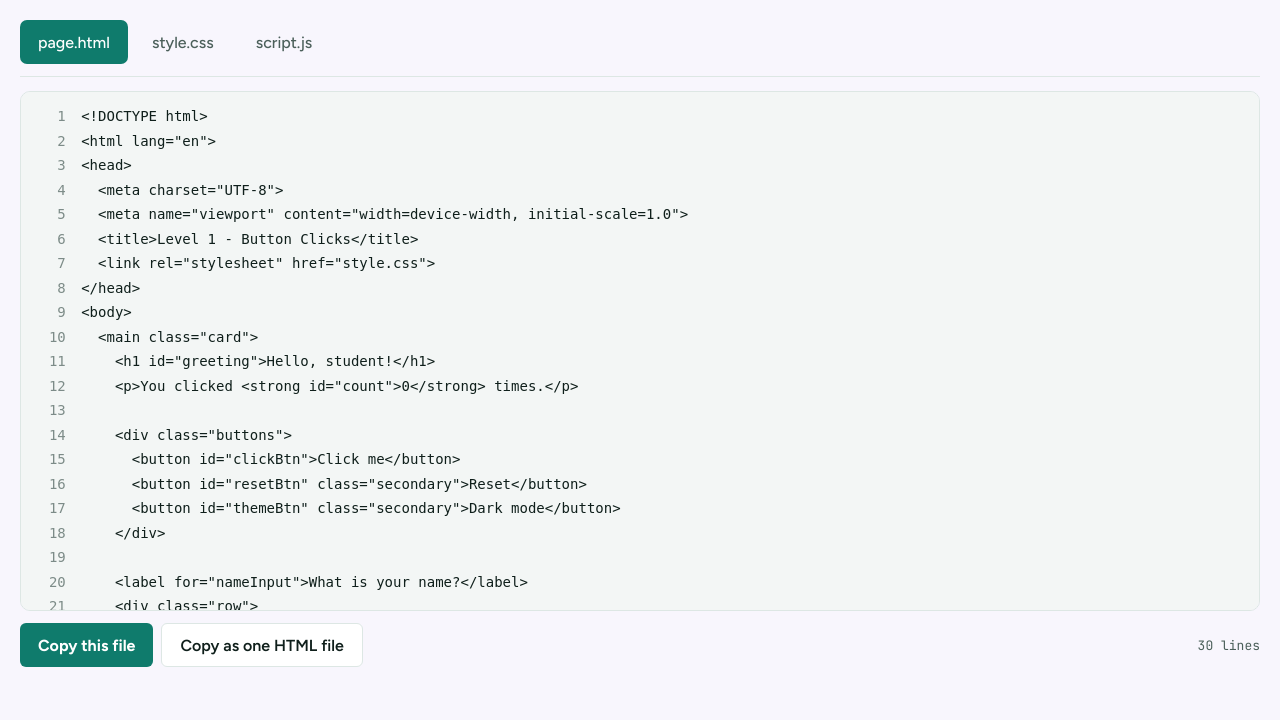
Test case: CodeBox copy › falls back to execCommand and removes the temporary textarea
Click the button "Copy this file" at (87, 645), box 20,623 -> 154,667
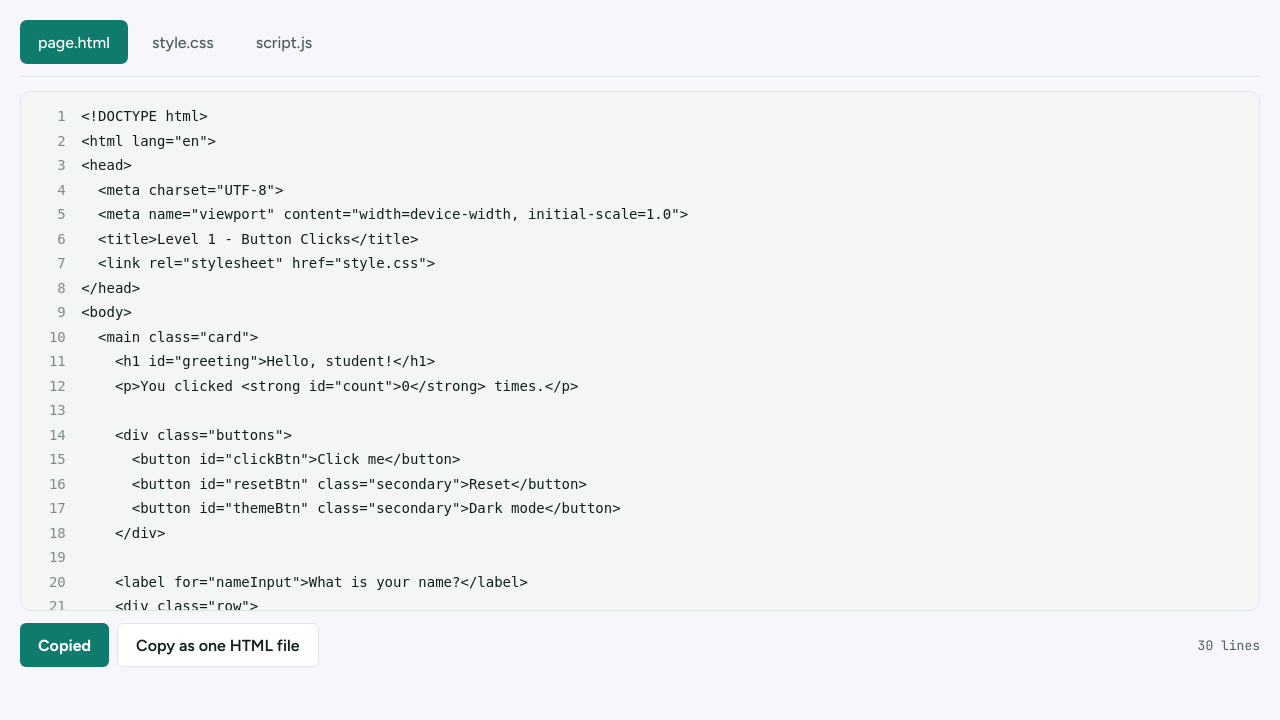
Check: the button "Copied" is shown, box 20,623 -> 109,667
